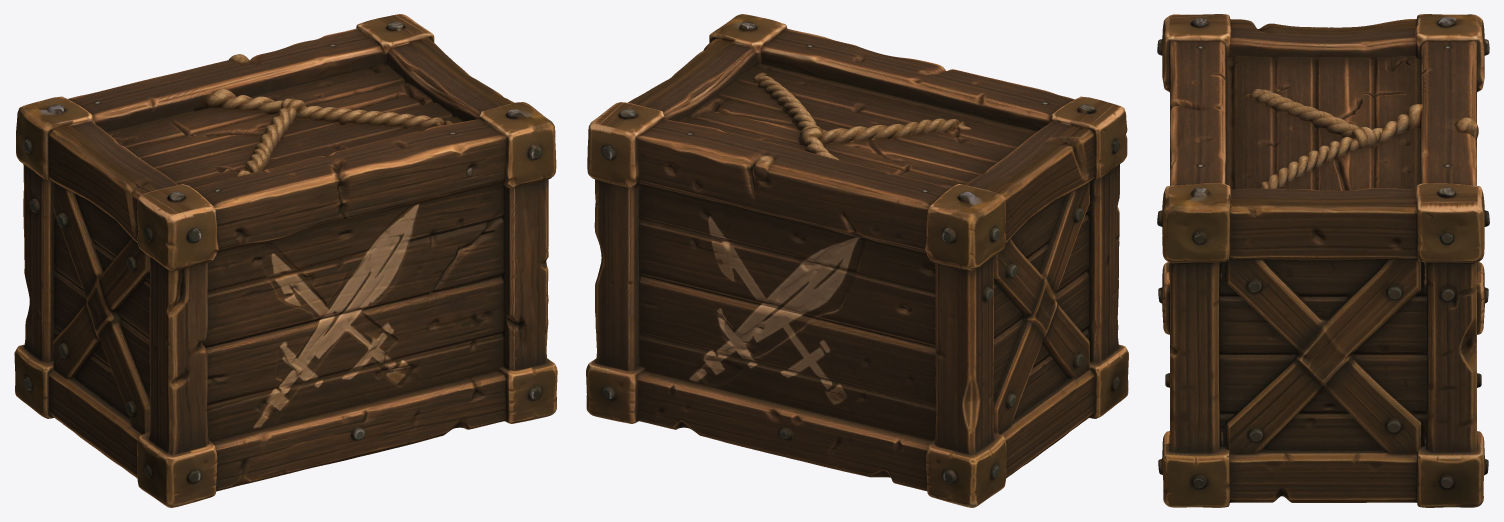
The model's file is furniture_09.glb.
3 views of the same model, side by side, from view 1: azimuth 30°, elevation 25°; view 2: azimuth 150°, elevation 25°; view 3: azimuth 270°, elevation 25° (orthographic). The views are drawn at different scales.
Size of the model in its own units: 1.9 by 1.37 by 1.33.
Materials: 1 (1 with a texture image).
